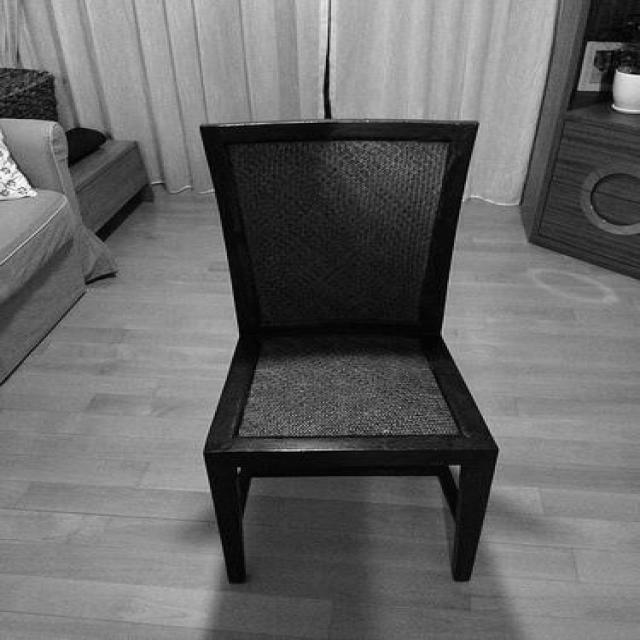chair: (202, 119, 504, 586)
